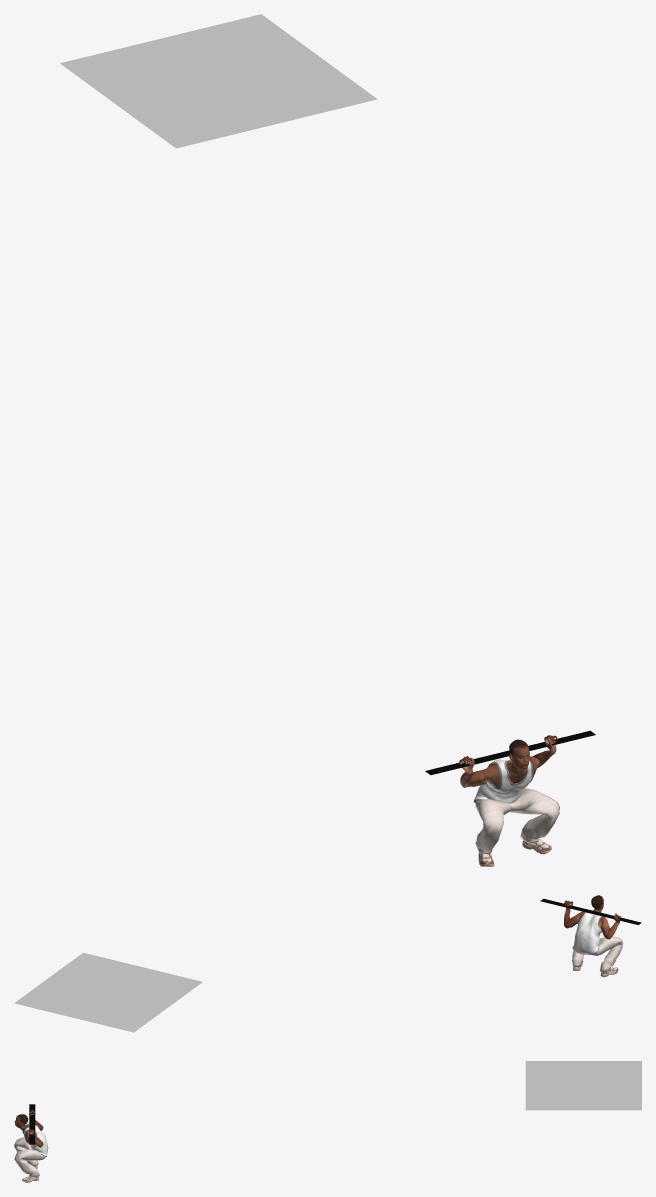
The model's file is Coach_Mec_Barre_De_Musculation.obj.
3 views of the same model, one above another, from view 1: azimuth 30°, elevation 25°; view 2: azimuth 150°, elevation 25°; view 3: azimuth 270°, elevation 25° (orthographic). The views are drawn at different scales.
Parts seen in each view (by area): view 1: Plane, Bottoms_Bottomsmesh, Body_Bodymesh, Tops_Topsmesh; view 2: Plane, Tops_Topsmesh, Bottoms_Bottomsmesh, Body_Bodymesh, Plane.001; view 3: Plane, Bottoms_Bottomsmesh, Body_Bodymesh, Tops_Topsmesh, Plane.001.
Boxes of the visible parts, bbox=[...] form: Plane: bbox=[60, 14, 377, 148]; Bottoms_Bottomsmesh: bbox=[475, 788, 559, 854]; Body_Bodymesh: bbox=[459, 735, 557, 787]; Tops_Topsmesh: bbox=[473, 759, 532, 803]; Plane: bbox=[14, 952, 202, 1032]; Tops_Topsmesh: bbox=[572, 912, 602, 954]; Bottoms_Bottomsmesh: bbox=[572, 932, 623, 972]; Body_Bodymesh: bbox=[564, 895, 620, 939]; Plane.001: bbox=[540, 898, 641, 924]; Plane: bbox=[525, 1061, 641, 1110]; Bottoms_Bottomsmesh: bbox=[14, 1137, 45, 1176]; Body_Bodymesh: bbox=[14, 1110, 43, 1147]; Tops_Topsmesh: bbox=[23, 1123, 48, 1156]; Plane.001: bbox=[29, 1104, 35, 1144].
Size of the model in its own units: 4.4 by 2.9 by 10.79.
